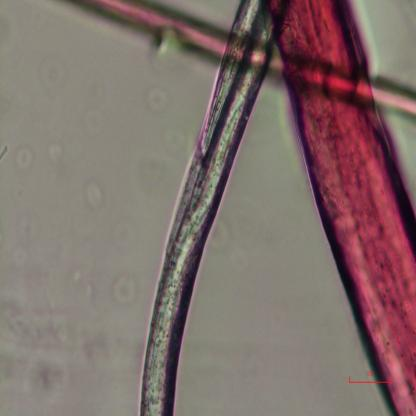Background material: (0, 302, 105, 356), (27, 354, 66, 397), (114, 275, 139, 304), (84, 178, 102, 211)
Hair textile: (270, 1, 416, 415)
Microfibre: (140, 0, 286, 416), (75, 0, 416, 117)
